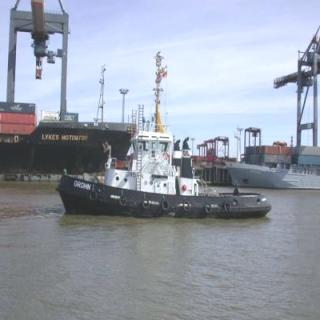Tug Boat: (56, 54, 258, 214)
